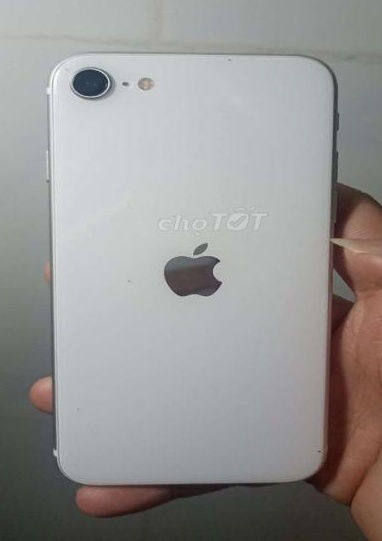scratch: (117, 276, 138, 287), (313, 441, 326, 455), (221, 54, 237, 64), (57, 62, 70, 73)
